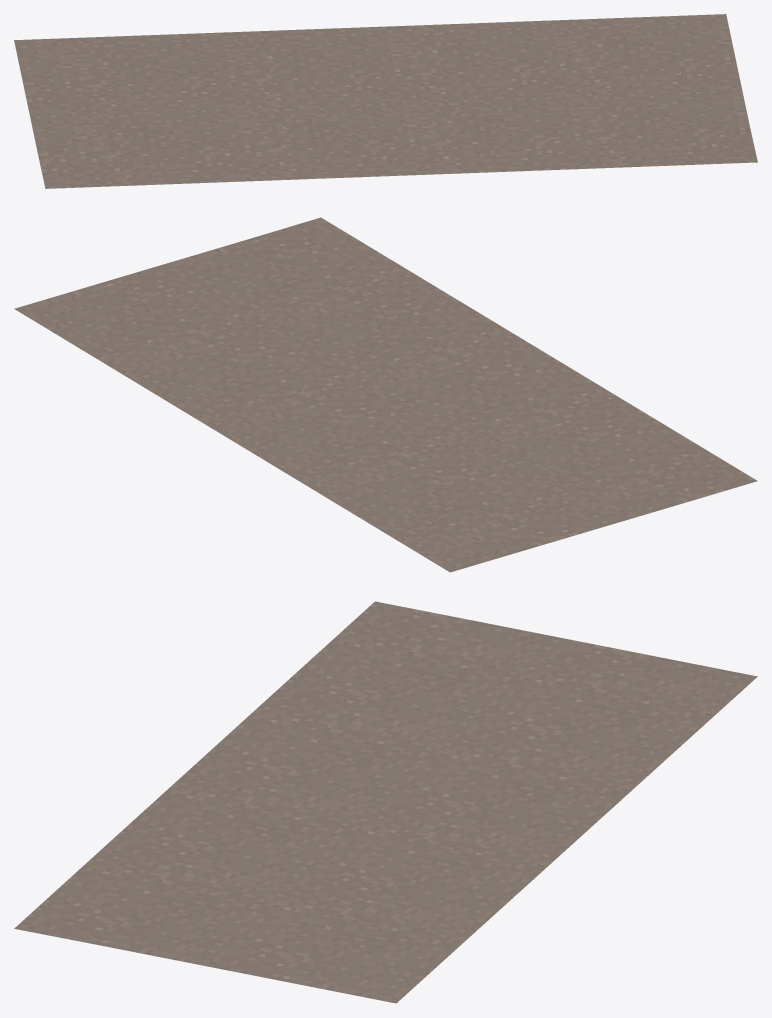
File: kd_stage_1366d7_0_30.glb
3 views of the same model, one above another, from view 1: azimuth 30°, elevation 25°; view 2: azimuth 150°, elevation 25°; view 3: azimuth 270°, elevation 25° (orthographic). The views are drawn at different scales.
Parts seen in each view (by area): view 1: kd_stage_1366d7_0_30; view 2: kd_stage_1366d7_0_30; view 3: kd_stage_1366d7_0_30.
Part boxes in pixels (box(x1,y1,x2,y2)): kd_stage_1366d7_0_30: box(14, 14, 757, 188); kd_stage_1366d7_0_30: box(14, 217, 757, 572); kd_stage_1366d7_0_30: box(14, 601, 757, 1003).
Bounding box in the file's own units: 4.39 × 0 × 3.43.
1 material, 1 textured.
